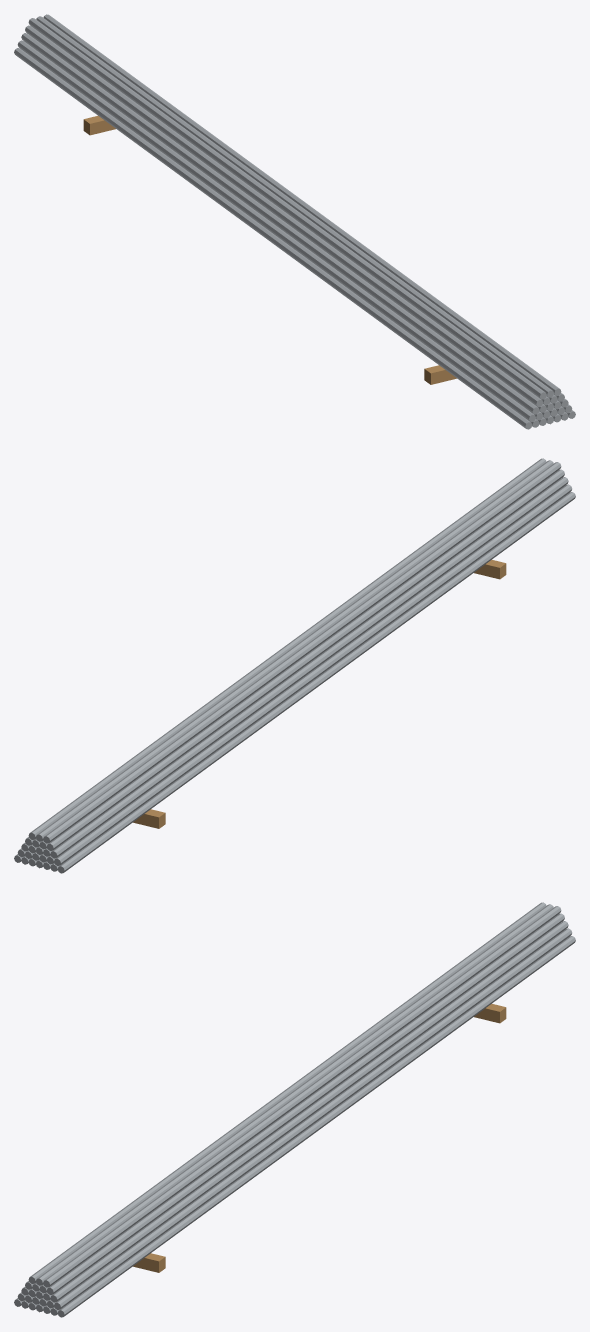
The model's file is plant.store.tubes.glb.
3 views of the same model, one above another, from view 1: azimuth 30°, elevation 25°; view 2: azimuth 150°, elevation 25°; view 3: azimuth 330°, elevation 25° (orthographic).
Visible parts, largest first — view 1: main__steel_galvanised, main__softwood; view 2: main__steel_galvanised, main__softwood; view 3: main__steel_galvanised, main__softwood.
Part boxes in pixels (x1=…): main__steel_galvanised: x1=14, y1=14, x2=575, y2=429; main__softwood: x1=83, y1=116, x2=456, y2=384; main__steel_galvanised: x1=14, y1=458, x2=575, y2=873; main__softwood: x1=133, y1=560, x2=506, y2=828; main__steel_galvanised: x1=14, y1=902, x2=575, y2=1317; main__softwood: x1=133, y1=1004, x2=506, y2=1272.
Bounding box in the file's own units: 0.512 × 0.2939 × 6.
